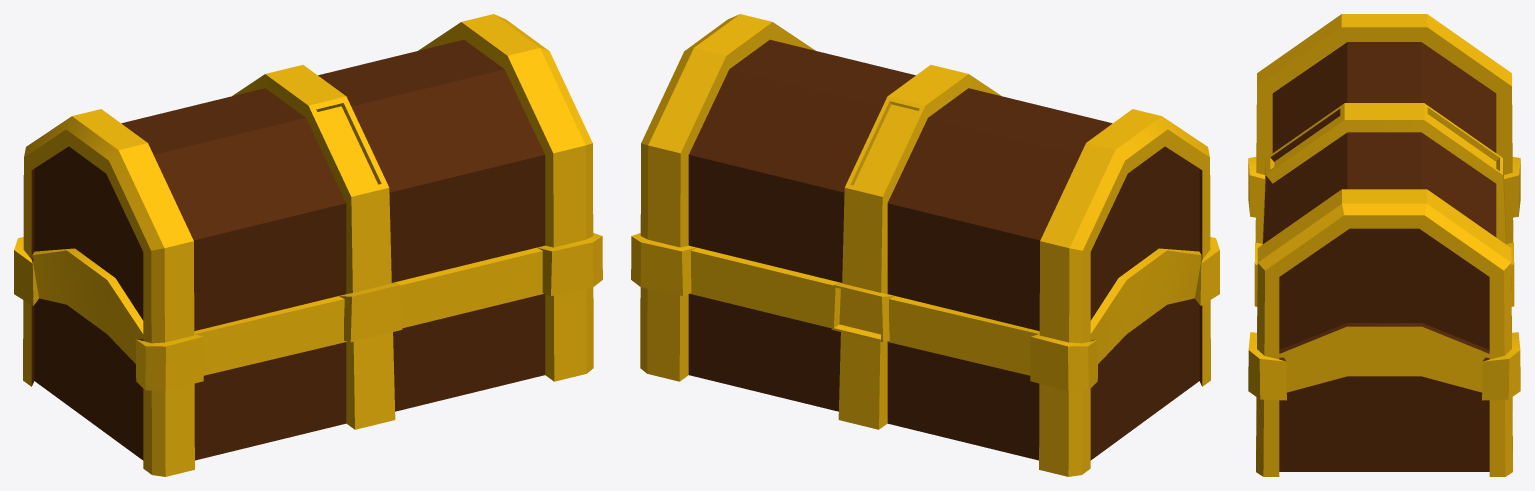
The model's file is cofre.fbx.
The picture shows the model from 3 angles, left to right: view 1: azimuth 30°, elevation 25°; view 2: azimuth 150°, elevation 25°; view 3: azimuth 270°, elevation 25°; orthographic projection. The views are drawn at different scales.
Visible parts, largest first — view 1: Cube; view 2: Cube; view 3: Cube.
Boxes of the visible parts, x1,y1,x2,y2 form: Cube: [14, 14, 602, 476]; Cube: [631, 14, 1219, 476]; Cube: [1248, 14, 1520, 476].
Bounding box in the file's own units: 228 × 140 × 128.
